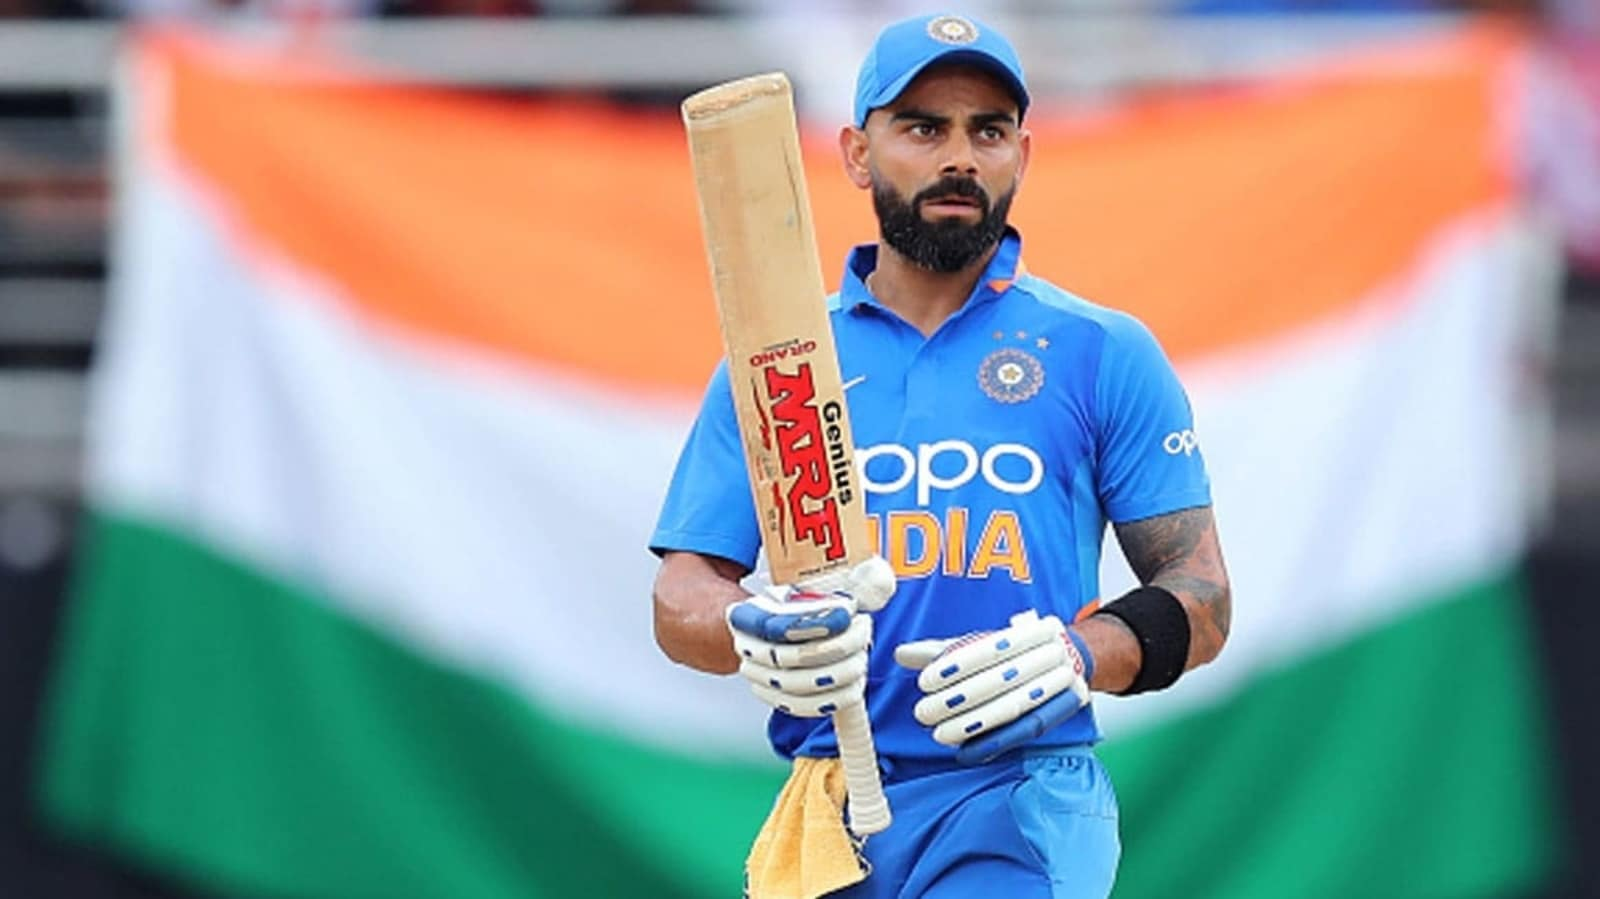NoMask: (872, 103, 1020, 267)
